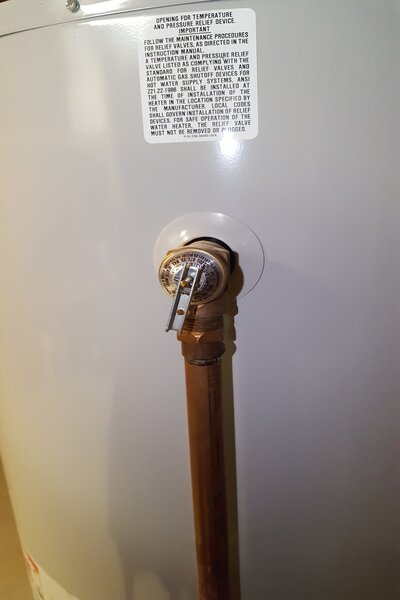valve: (158, 237, 236, 373)
